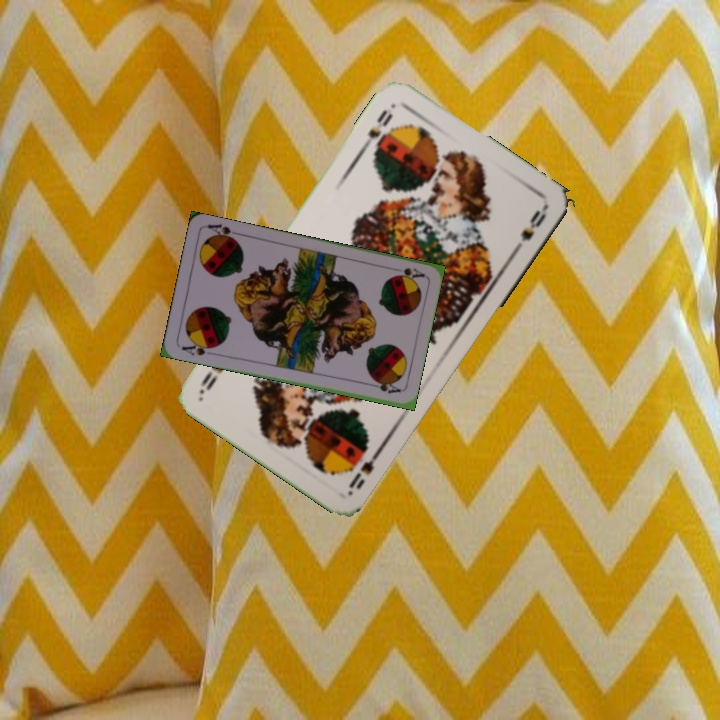SA: (178, 338, 218, 358), (391, 264, 427, 282)
SO: (345, 443, 385, 495), (358, 105, 396, 153)
